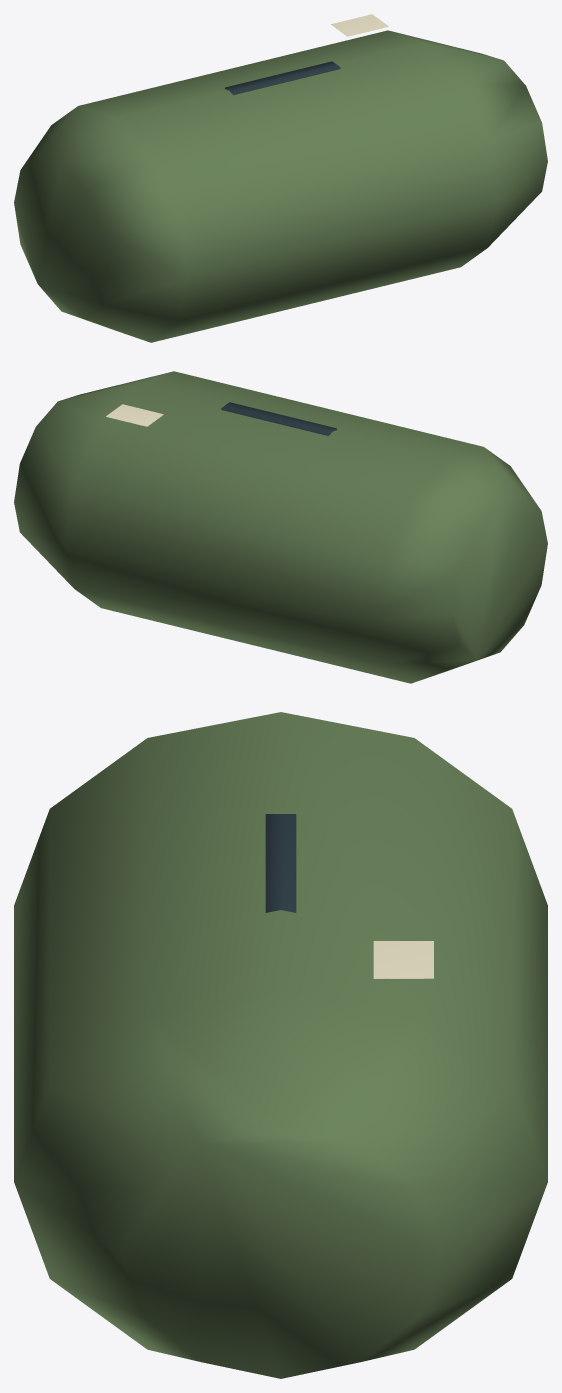
The picture shows the model from 3 angles, top to bottom: view 1: azimuth 30°, elevation 25°; view 2: azimuth 150°, elevation 25°; view 3: azimuth 270°, elevation 25°; orthographic projection. The views are drawn at different scales.
Parts seen in each view (by area): view 1: soft_rigid_proxy, handle, id_tag; view 2: soft_rigid_proxy, handle, id_tag; view 3: soft_rigid_proxy, handle, id_tag.
Part boxes in pixels (bbox=[...]): soft_rigid_proxy: bbox=[14, 30, 547, 342]; handle: bbox=[225, 61, 340, 95]; id_tag: bbox=[331, 14, 388, 36]; soft_rigid_proxy: bbox=[14, 371, 547, 683]; handle: bbox=[221, 402, 336, 435]; id_tag: bbox=[106, 404, 163, 426]; soft_rigid_proxy: bbox=[14, 712, 547, 1378]; handle: bbox=[265, 814, 296, 912]; id_tag: bbox=[373, 941, 433, 978].
Bounding box in the file's own units: 0.7 × 0.4 × 0.3211.
